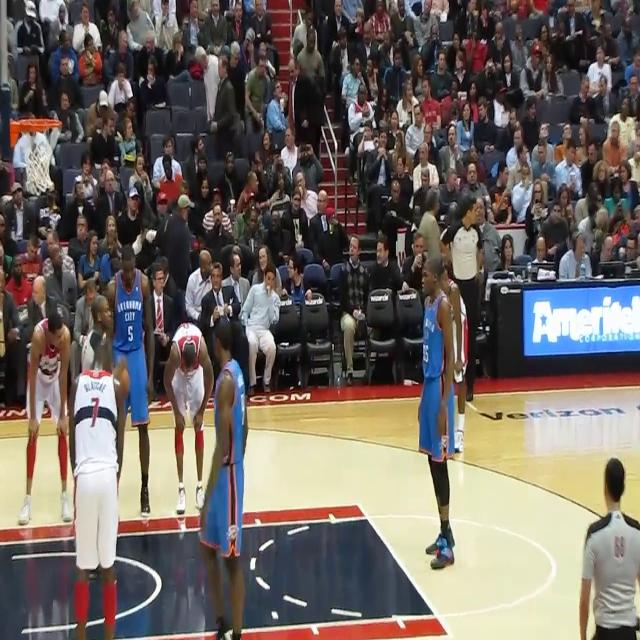ball: (112, 362, 130, 398)
